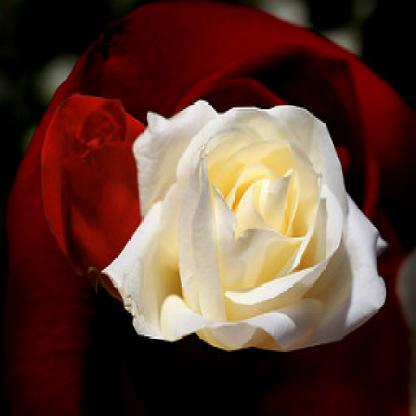ROSE-MAWAR: (101, 84, 389, 372)
